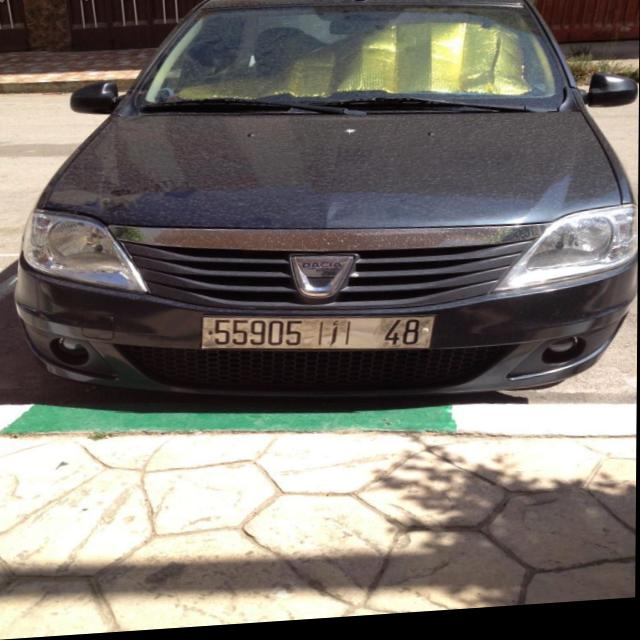License-Plate: (201, 319, 435, 356)
